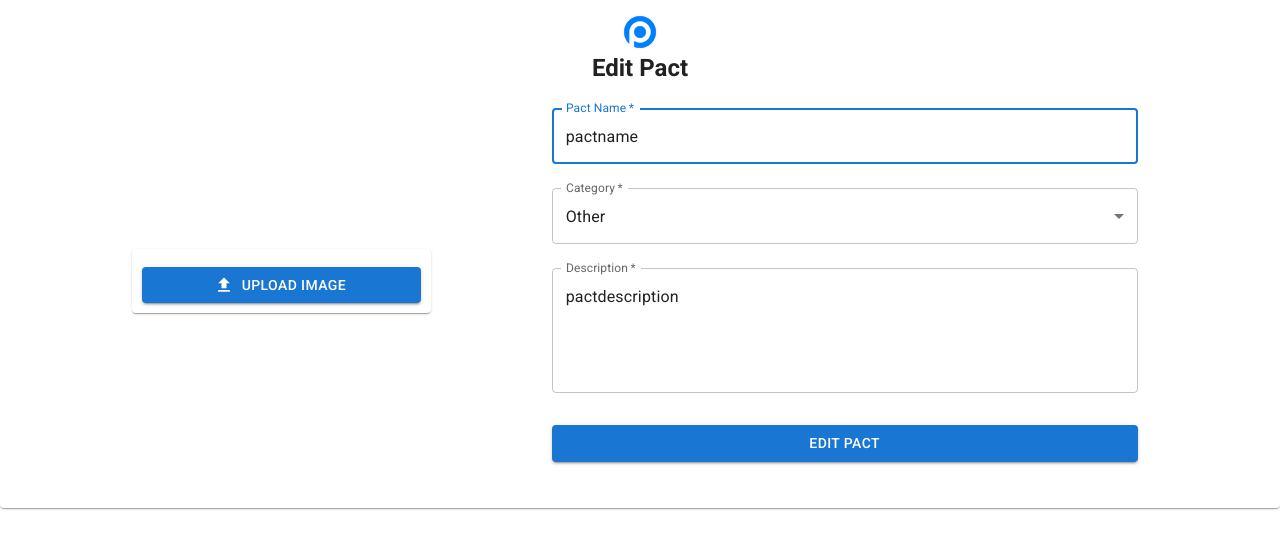
Test: EditPact Tests › Check interaction with elements › should return error when invalid Pact name is entered and Edit Pact button is pressed with invalid input
The width and height of the screenshot is (1280, 549).
Expected: the text "Provide the name" is not shown
Click the button "Edit Pact" at (845, 443), box [552,425,1138,462]
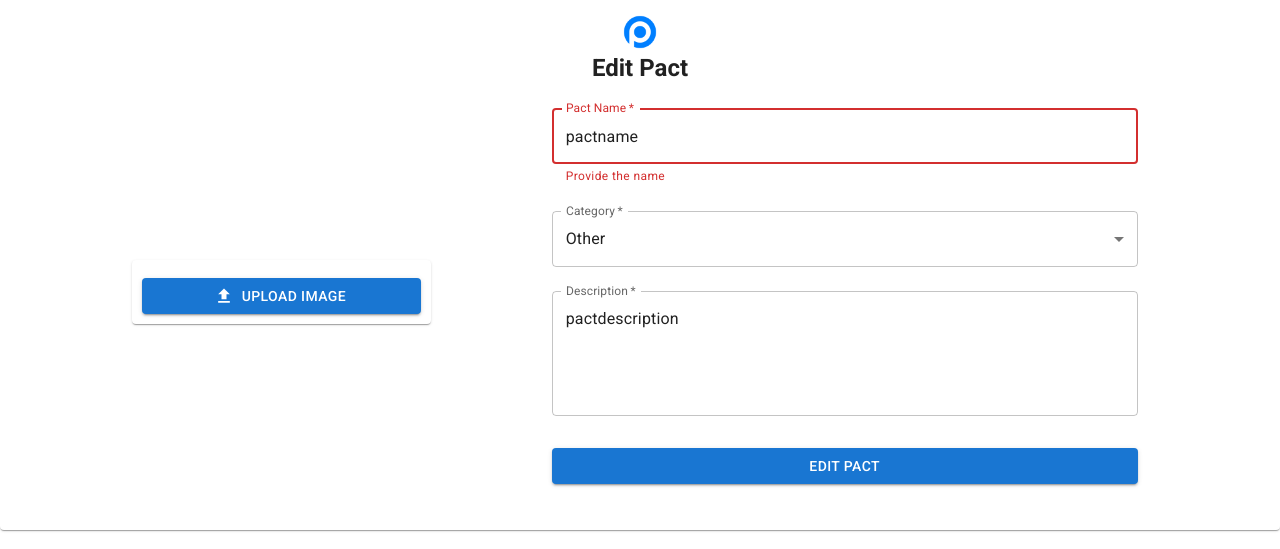
Expected: the text "Provide the name" is shown, [566,169,665,183]
